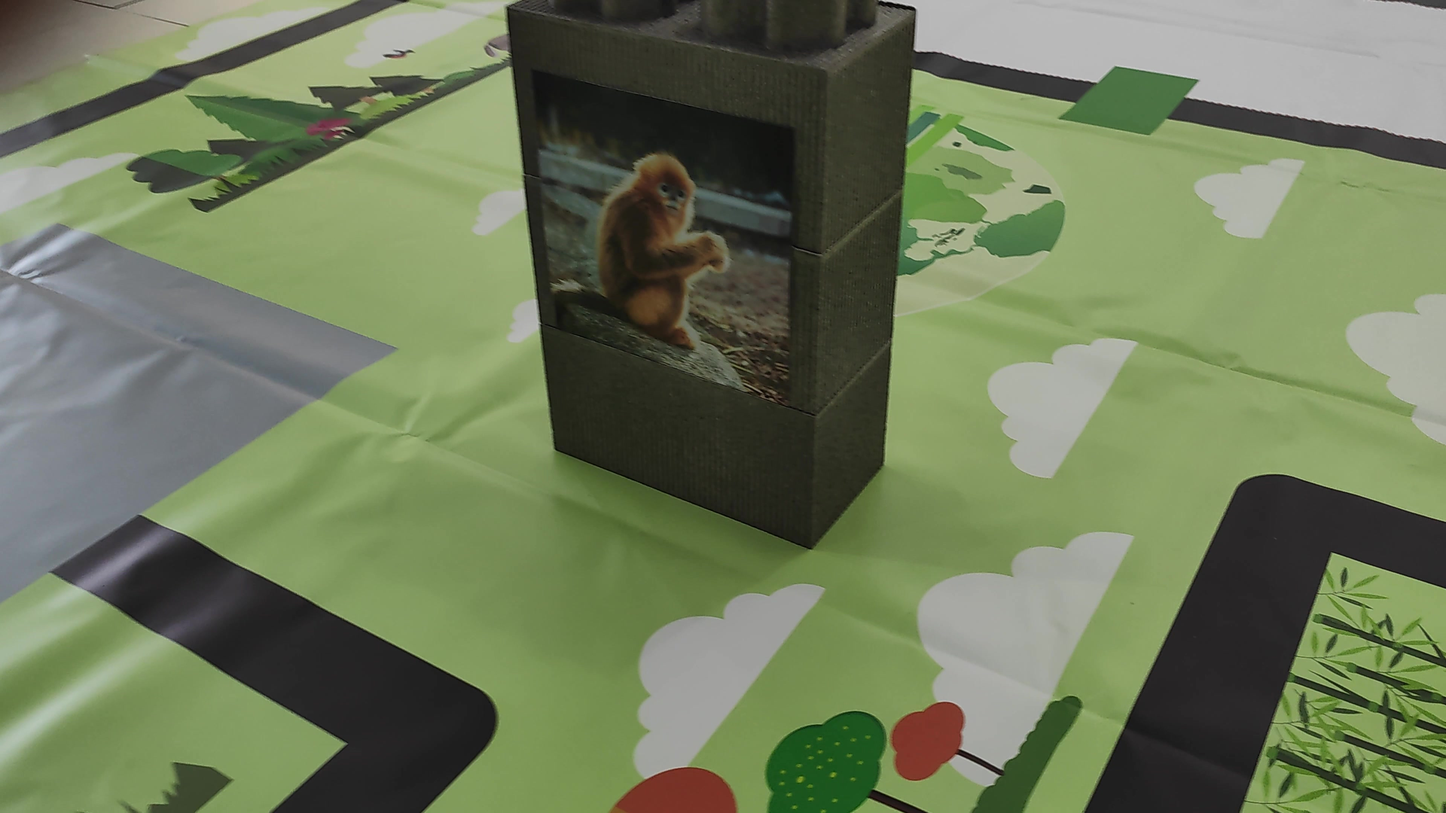monkey: (570, 140, 789, 373)
